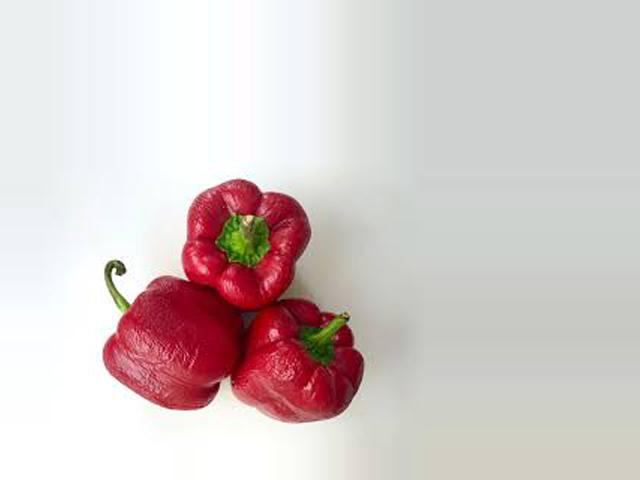bell_pepper: (70, 252, 229, 416)
